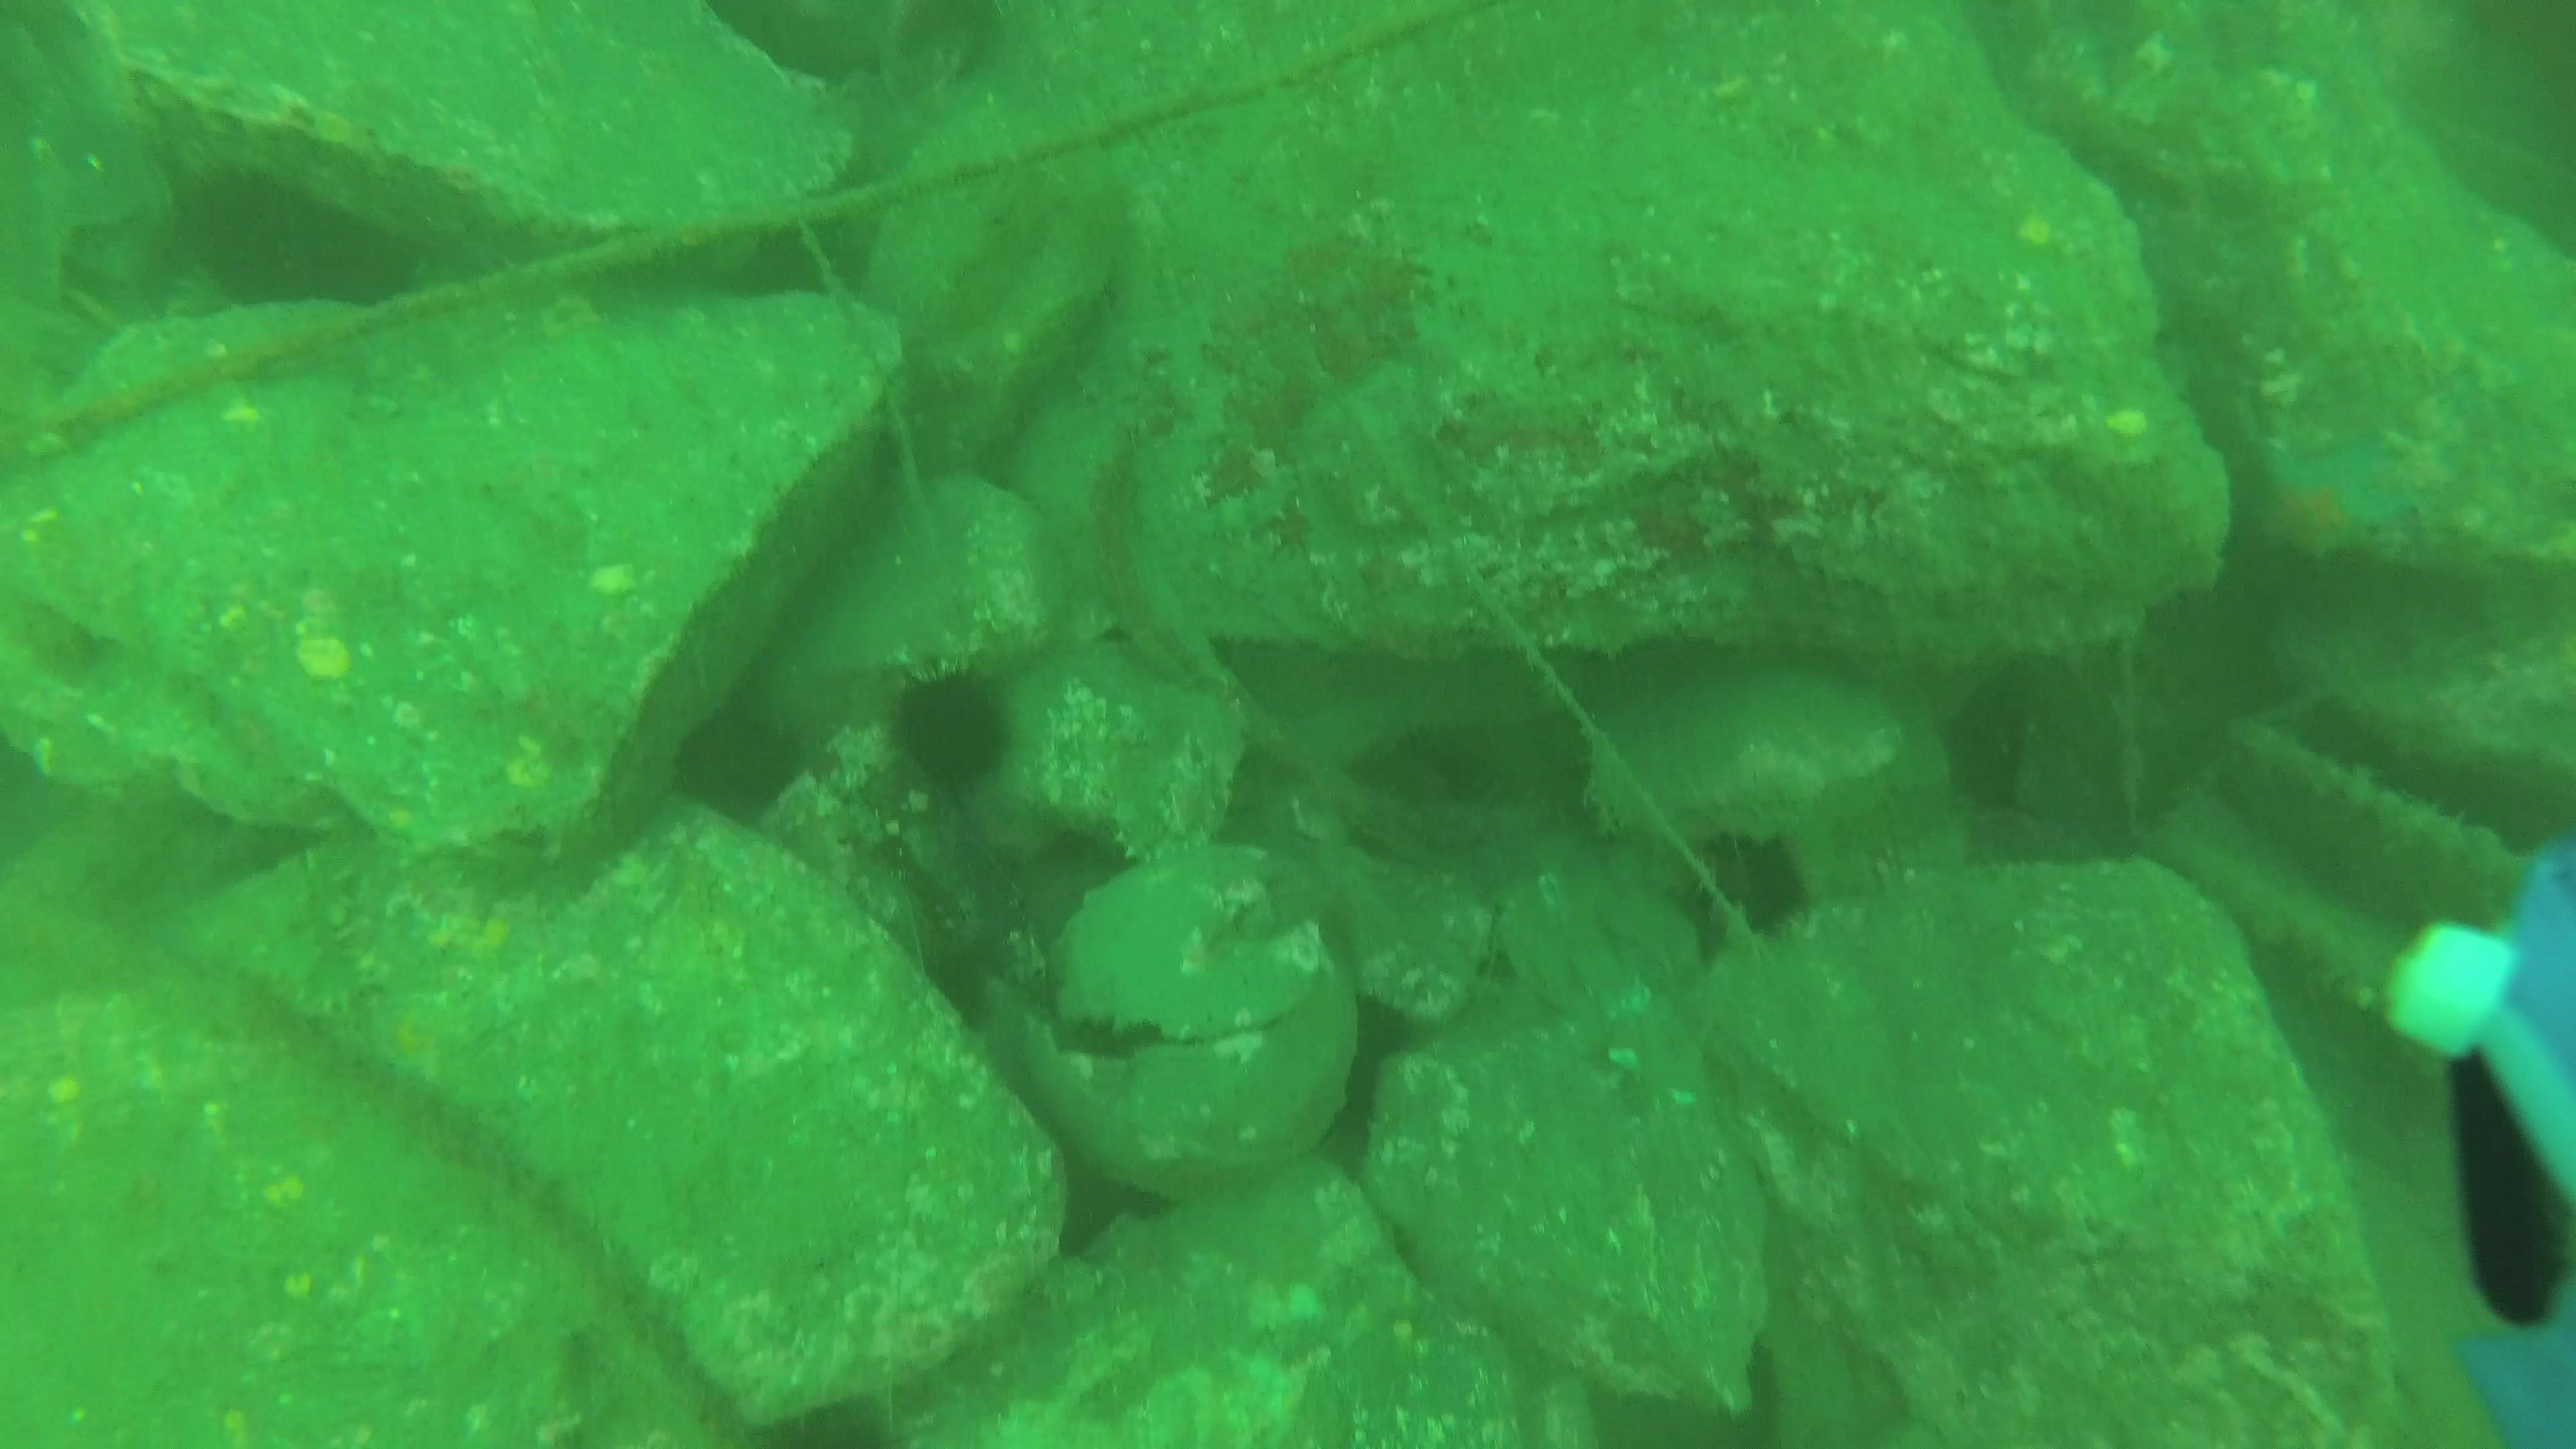echinus: (872, 656, 1019, 801)
starfish: (2243, 435, 2415, 570)
